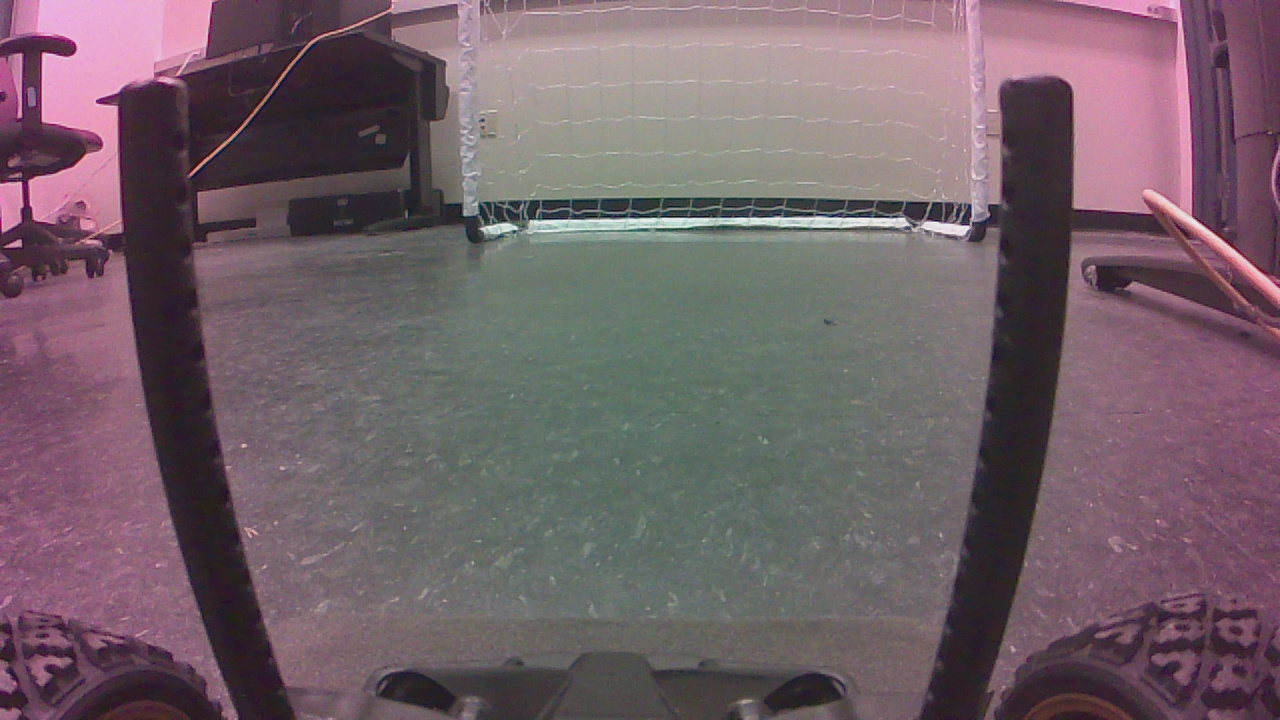goal: (461, 3, 995, 251)
